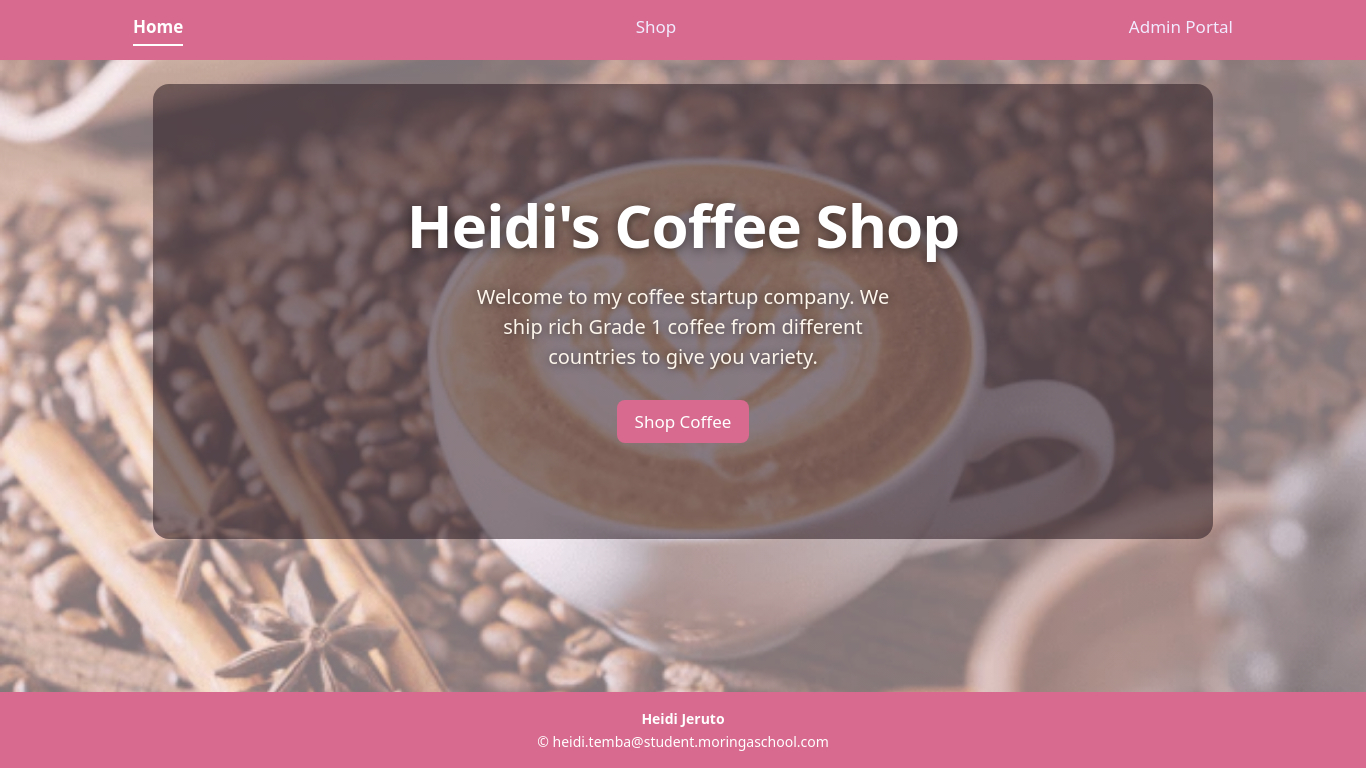
App routing + navigation › navigates to the Shop page and shows fetched data
What coordinates should you click on to do the following:
click the link "Shop"
I would click on:
 (656, 30)
Its box is 636,14 -> 676,46.
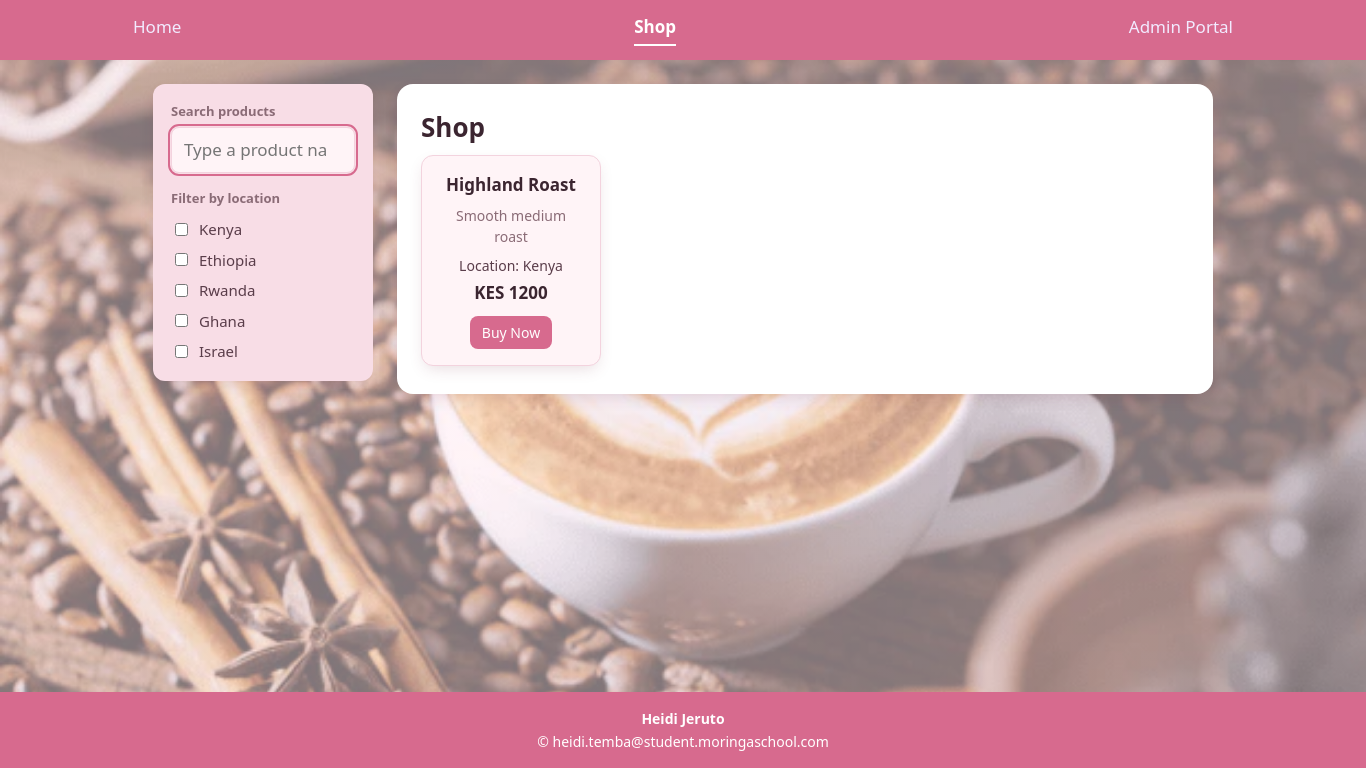
Expected: the heading "Shop" is shown, 421,108 -> 485,144
Now the link "Highland Roast" is shown, box 446,172 -> 576,196
